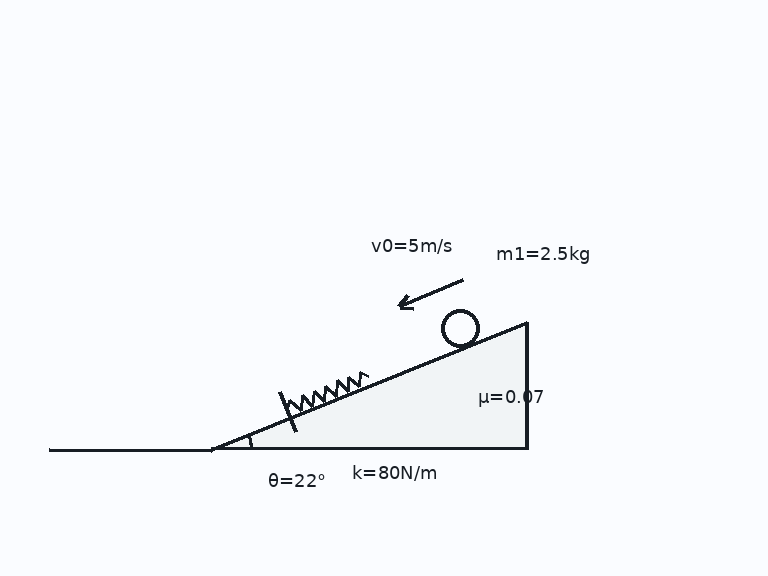ball: (439, 307, 481, 349)
ramp: (209, 320, 528, 451)
spring: (284, 370, 370, 413)
